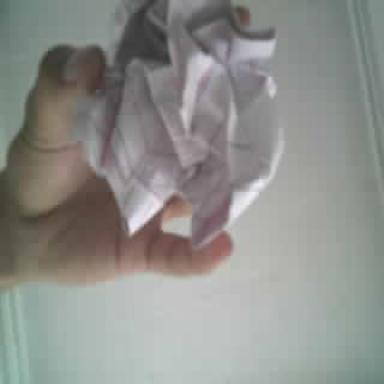paper: (73, 0, 281, 245)
